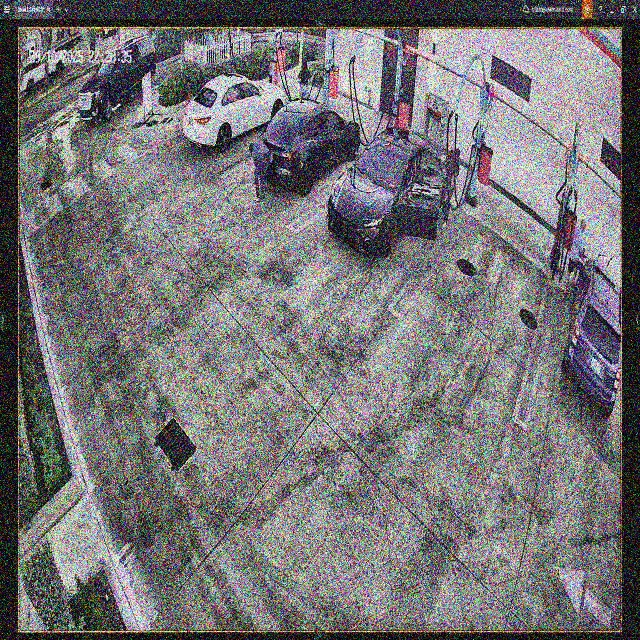Car: (327, 131, 443, 259), (255, 102, 360, 191), (185, 73, 285, 164)
